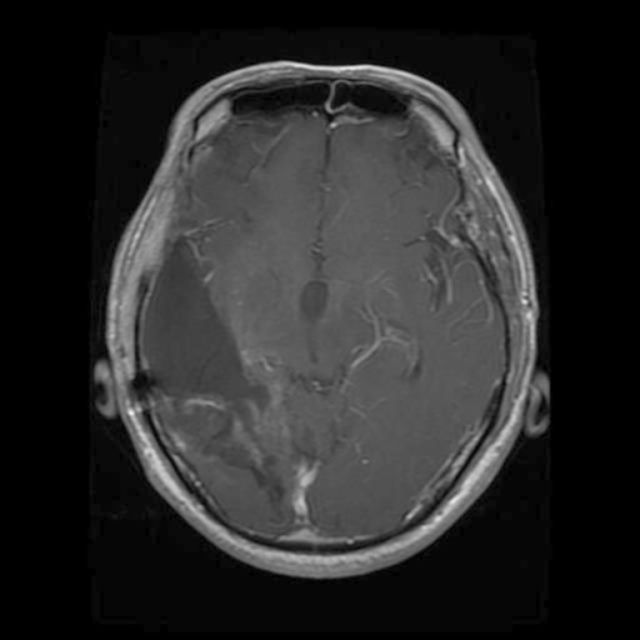pituitary tumor: (154, 245, 265, 404)
